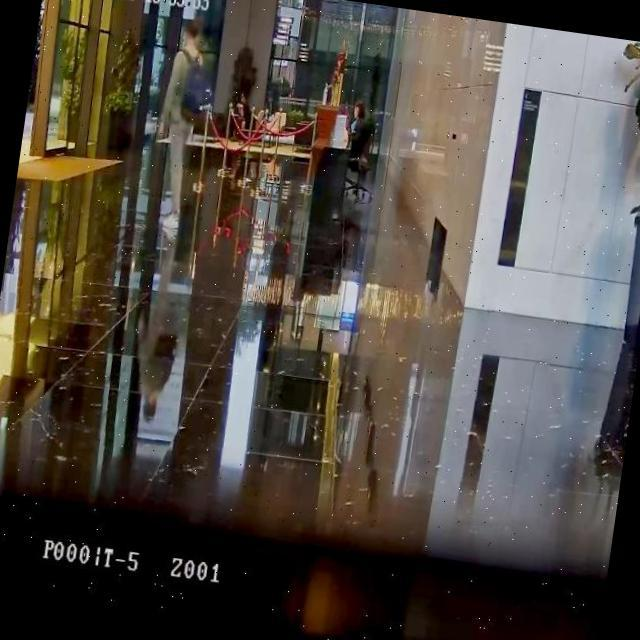person: (143, 14, 210, 237), (342, 99, 380, 171)
